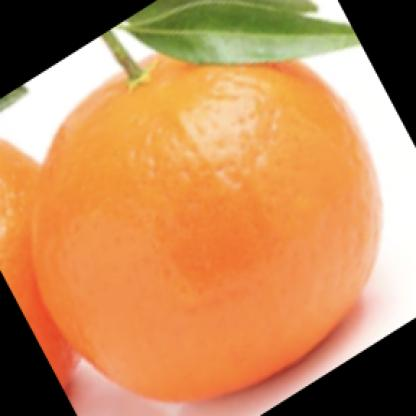fresh: (36, 52, 382, 404)
